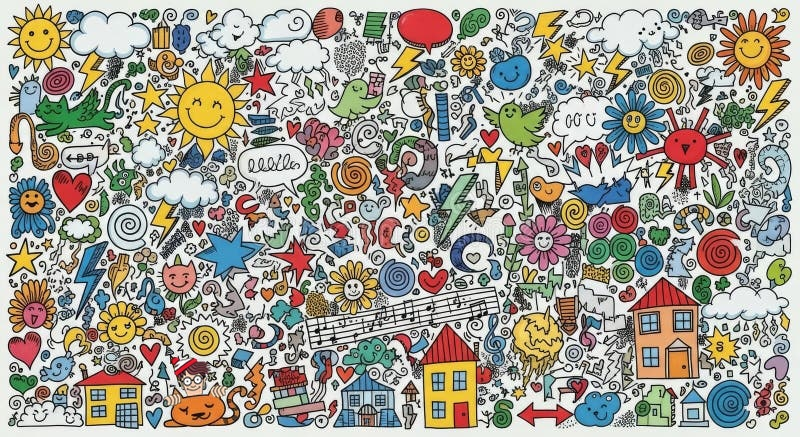waldo: (163, 357, 228, 406)
